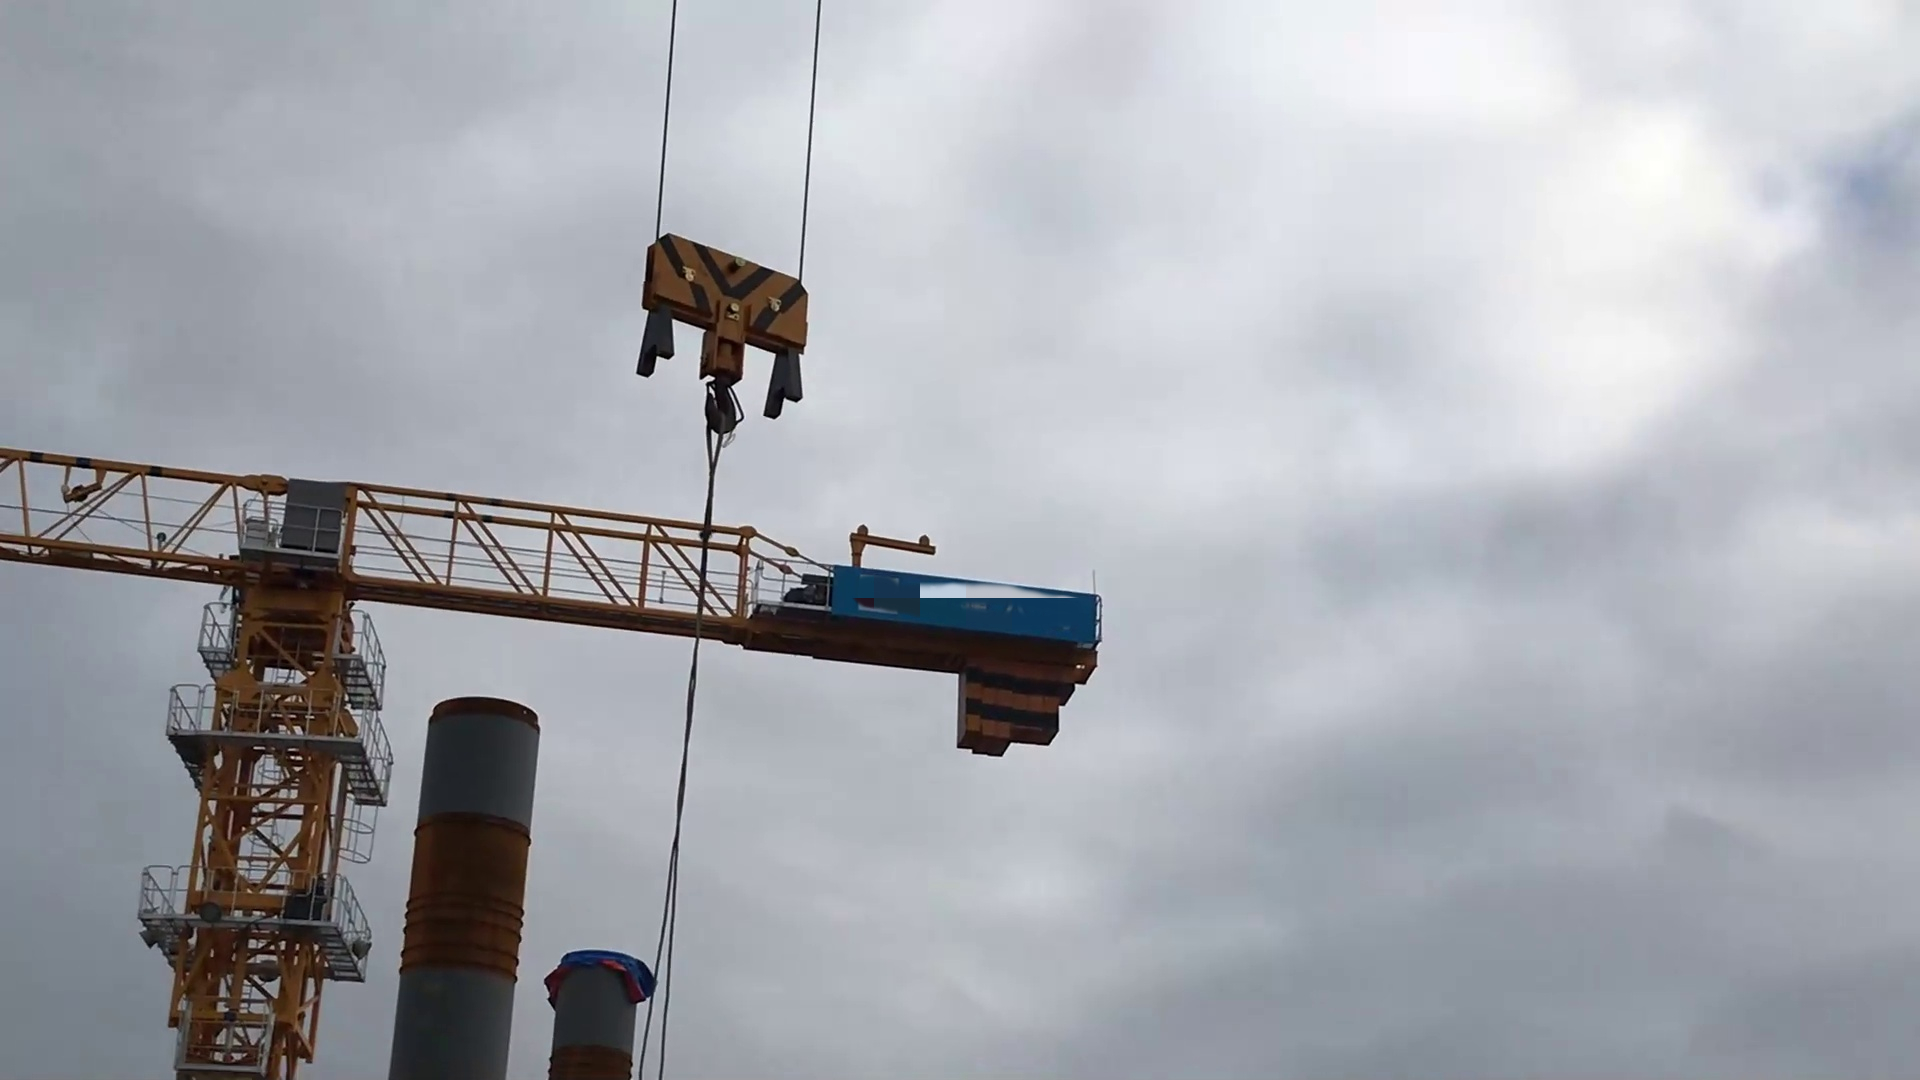hook: (629, 225, 819, 448)
